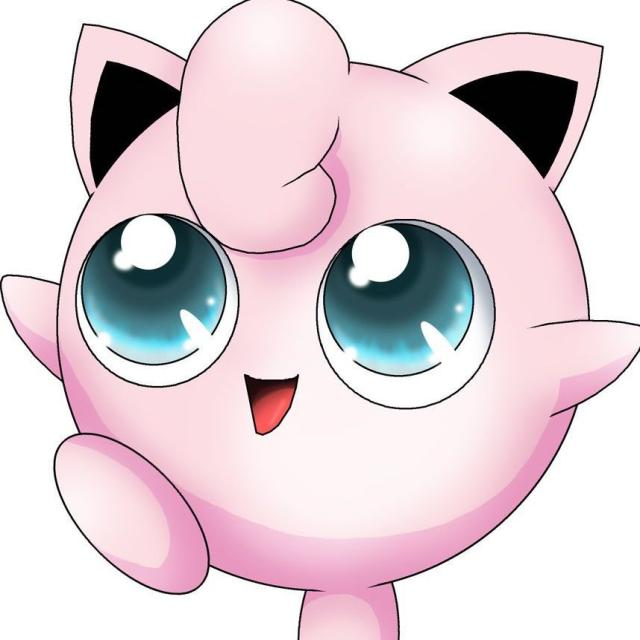Jigglypuff: (53, 51, 591, 580)
